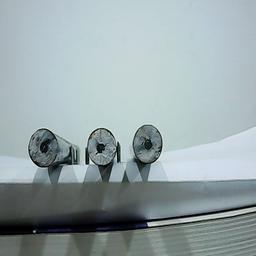pen: (27, 126, 61, 168), (85, 126, 118, 166), (132, 123, 163, 164)
